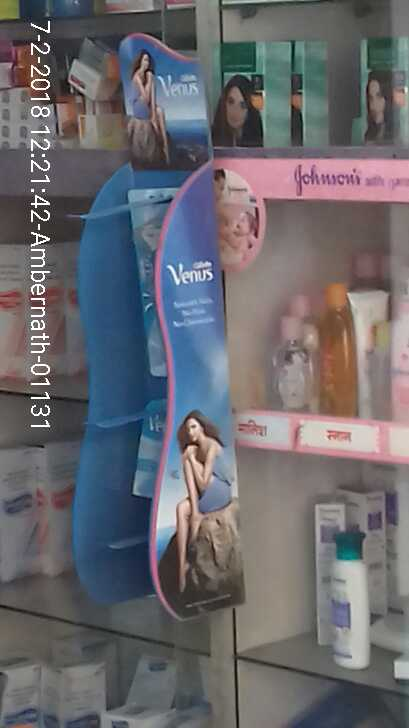reject: (123, 181, 231, 422)
